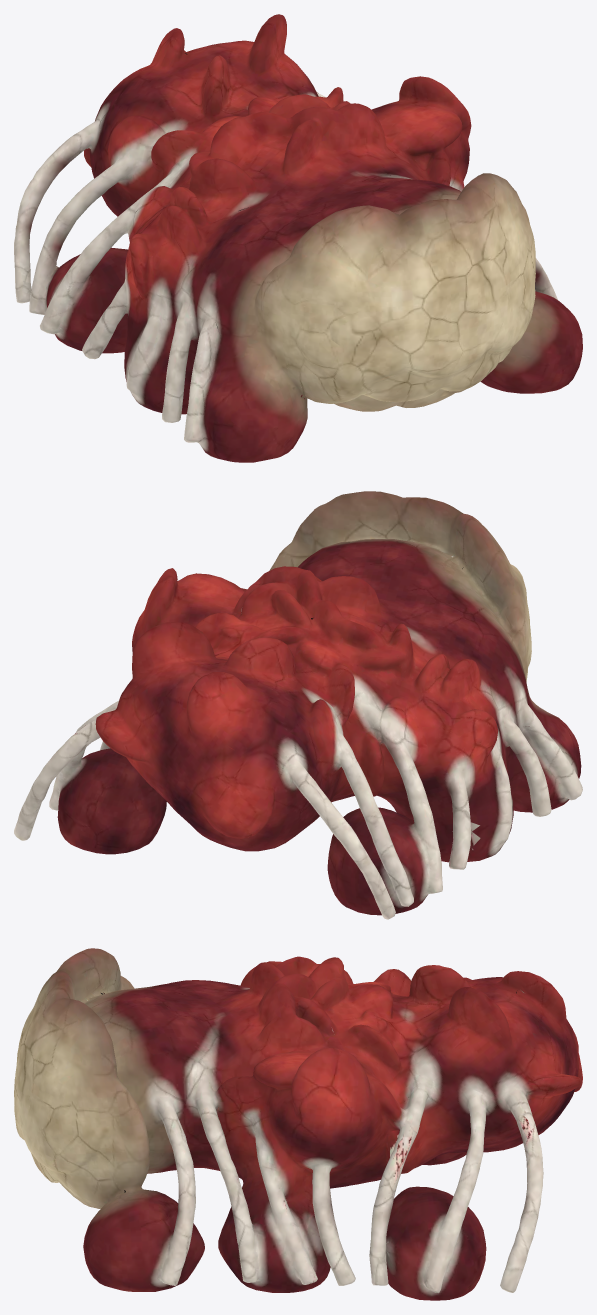
File: boss-thrombus.glb
3 views of the same model, one above another, from view 1: azimuth 30°, elevation 25°; view 2: azimuth 150°, elevation 25°; view 3: azimuth 270°, elevation 25° (orthographic). The views are drawn at different scales.
Parts seen in each view (by area): view 1: attack-membrane; view 2: attack-membrane; view 3: attack-membrane.
Boxes of the visible parts, left/top/right/bottom form: attack-membrane: left=14, top=14, right=582, bottom=462; attack-membrane: left=14, top=491, right=582, bottom=919; attack-membrane: left=14, top=948, right=582, bottom=1300.
Size of the model in its own units: 1.6 by 0.9821 by 2.
1 material, 1 textured.
